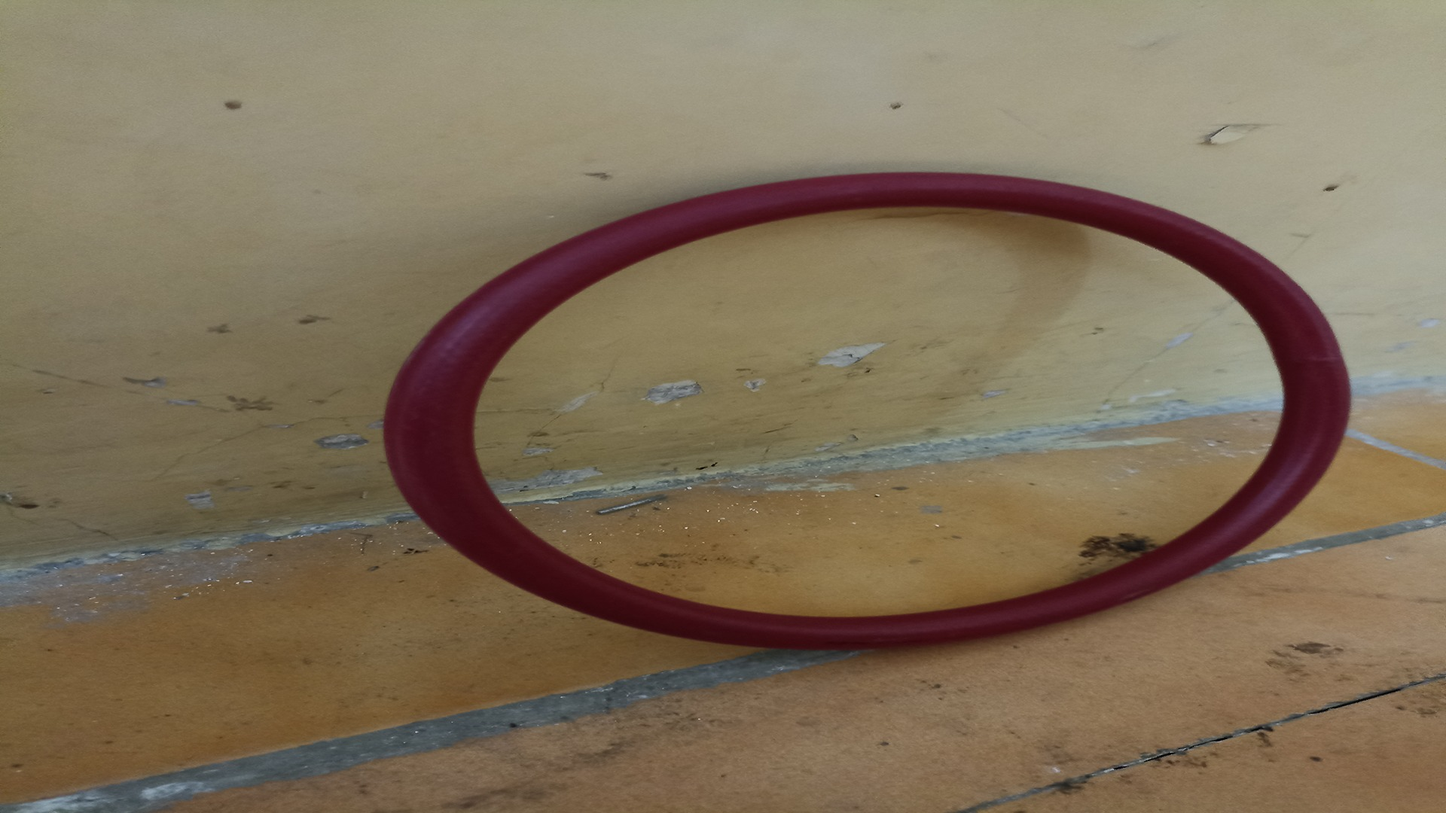Red ring: (383, 176, 1354, 653)
